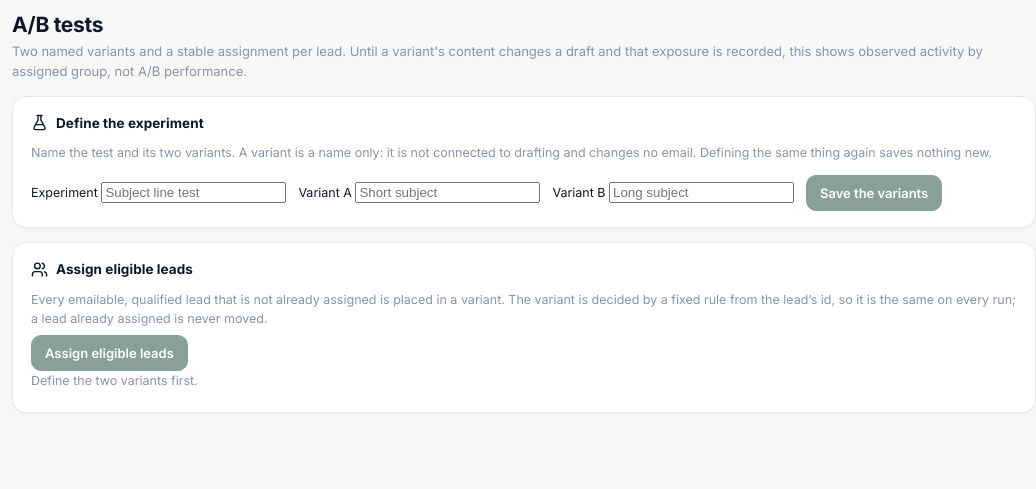
Test case: the A/B tests page › defines two variants and reports the result
The image size is (1036, 489).
Type " Subject test " into the field labelled "Experiment" at (194, 193), box left=101, top=182, right=286, bottom=203
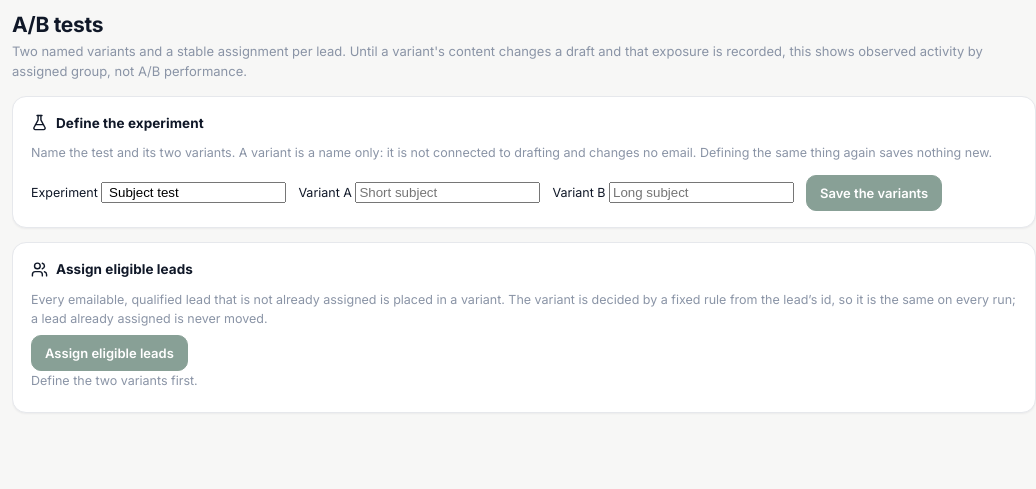
Type "Short" into the field labelled "Variant A" at (448, 193), box left=355, top=182, right=540, bottom=203
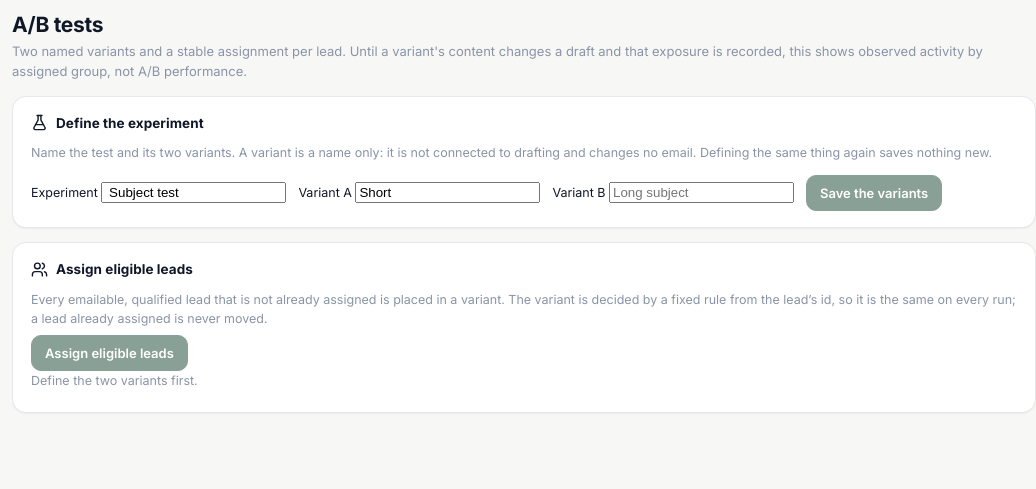
Type "Long" into the field labelled "Variant B" at (702, 193), box left=609, top=182, right=794, bottom=203
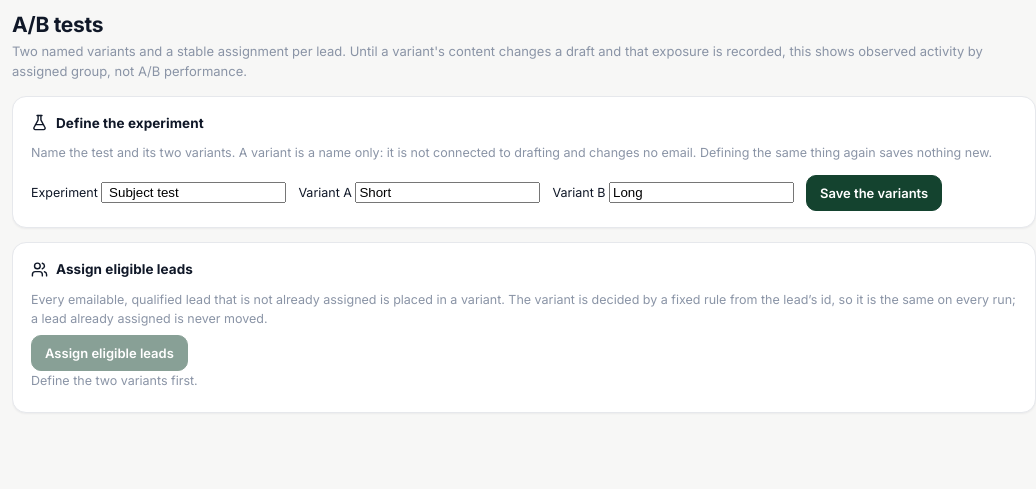
Click the button "Save the variants" at (874, 193), box left=806, top=175, right=942, bottom=211
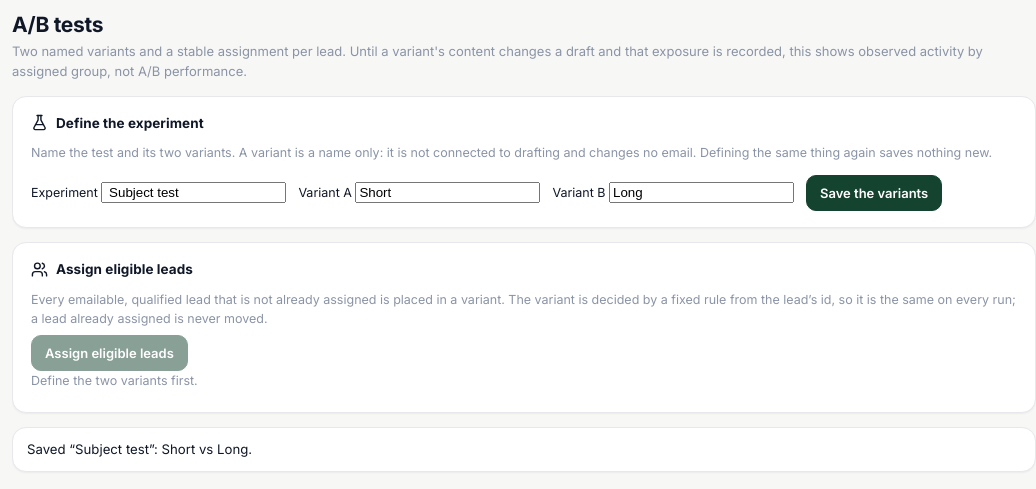
Expected: the text "Saved “Subject test”: Short vs Long." is shown, left=27, top=441, right=252, bottom=457
